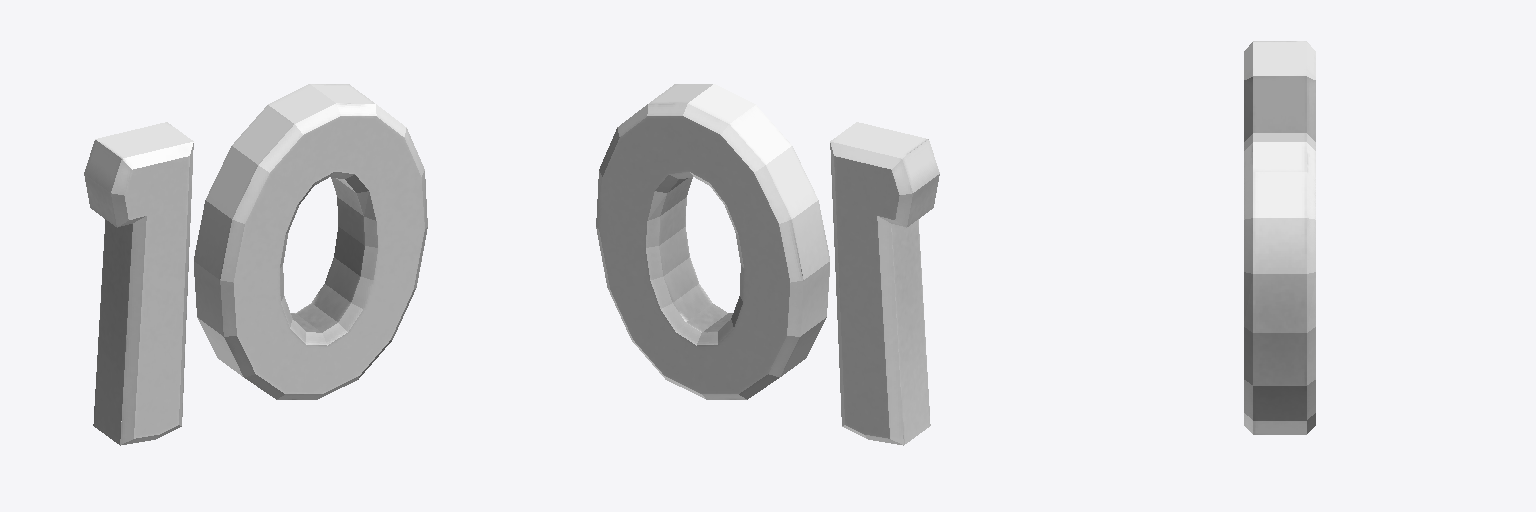
The picture shows the model from 3 angles: view 1: azimuth 30°, elevation 25°; view 2: azimuth 150°, elevation 25°; view 3: azimuth 270°, elevation 25°; orthographic projection.
Parts seen in each view (by area): view 1: Number_0; view 2: Number_0; view 3: Number_0.
Boxes of the visible parts, x1=… form: Number_0: x1=84, y1=84, x2=427, y2=445; Number_0: x1=596, y1=84, x2=939, y2=445; Number_0: x1=1244, y1=41, x2=1315, y2=434.
Size of the model in its own units: 29.66 by 26.13 by 5.91.
Materials: 1 (1 with a texture image).